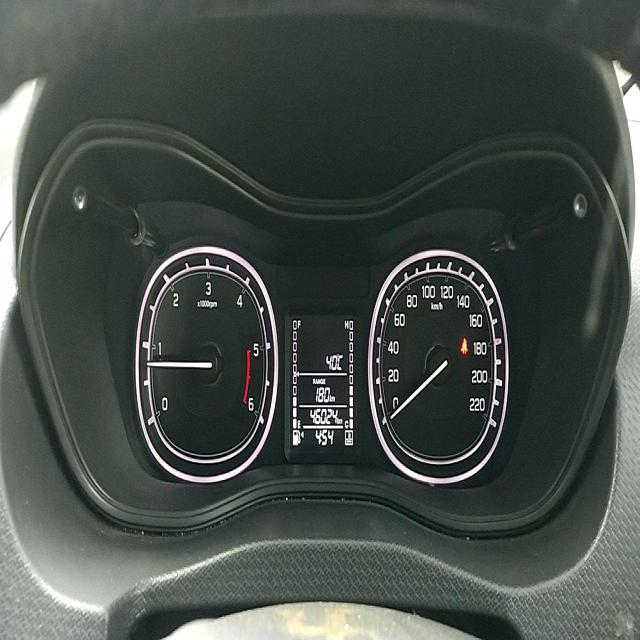odometer: (305, 405, 340, 427)
